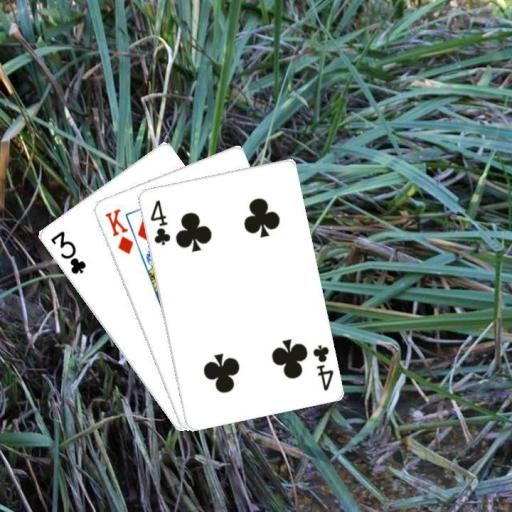3C: (47, 227, 88, 276)
4C: (309, 341, 335, 393), (147, 196, 172, 247)
KD: (101, 206, 134, 256)
